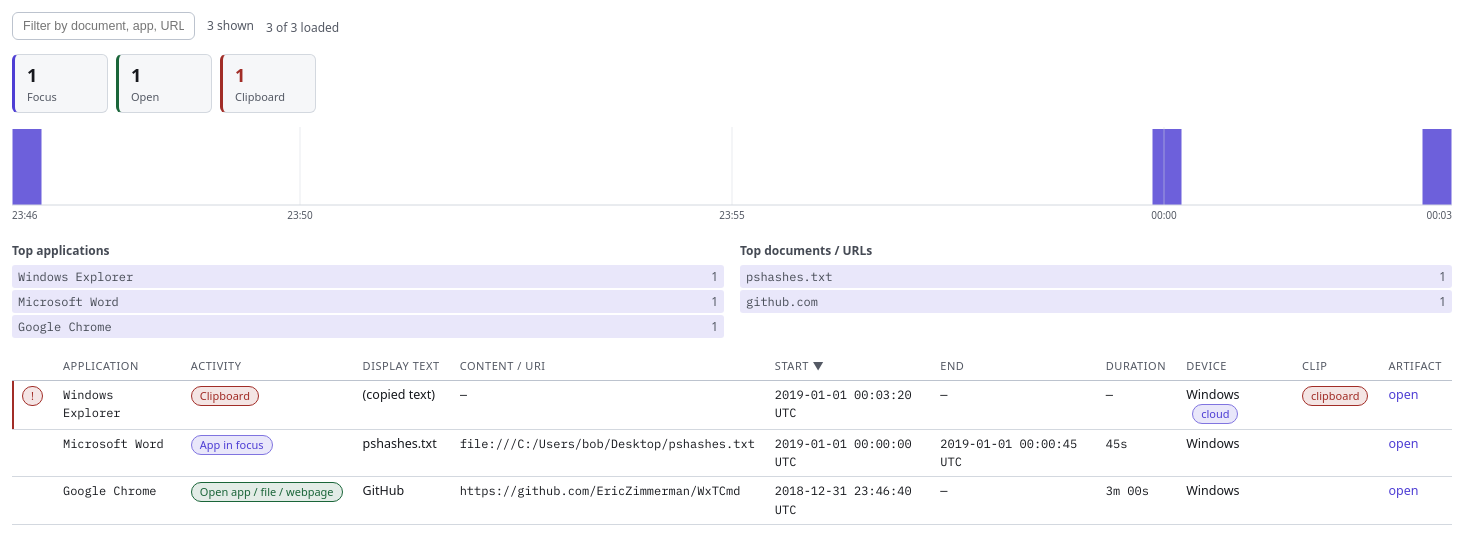
Test: WindowsTimelineViewer › filters to clipboard activities when the Clipboard tile is clicked
Click the button "1 Clipboard" at coordinates (268, 84), box 220,54 -> 316,113
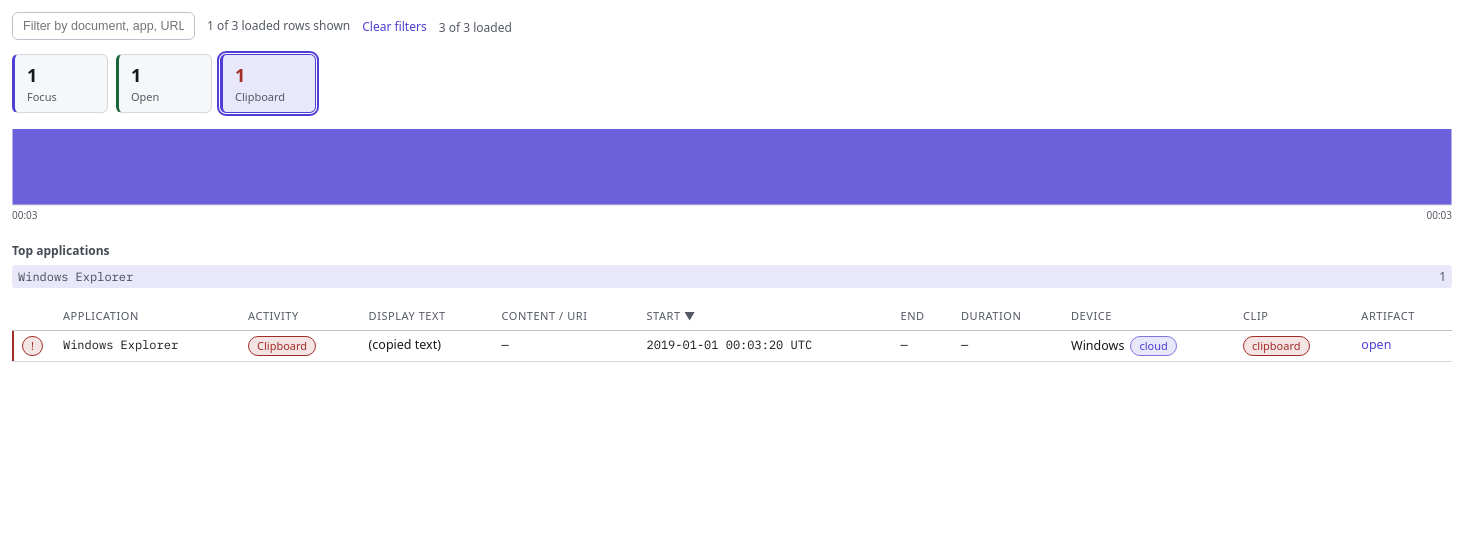
Expected: the text "Windows Explorer" in the row of "(copied text)" is shown, 63,337 -> 178,352
Expected: the button "Microsoft Word" is gone
